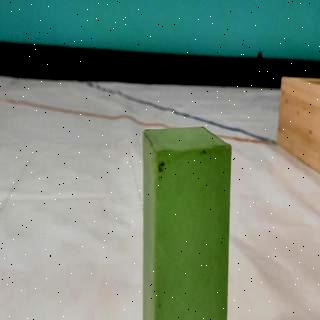greenbox: (139, 123, 235, 320)
